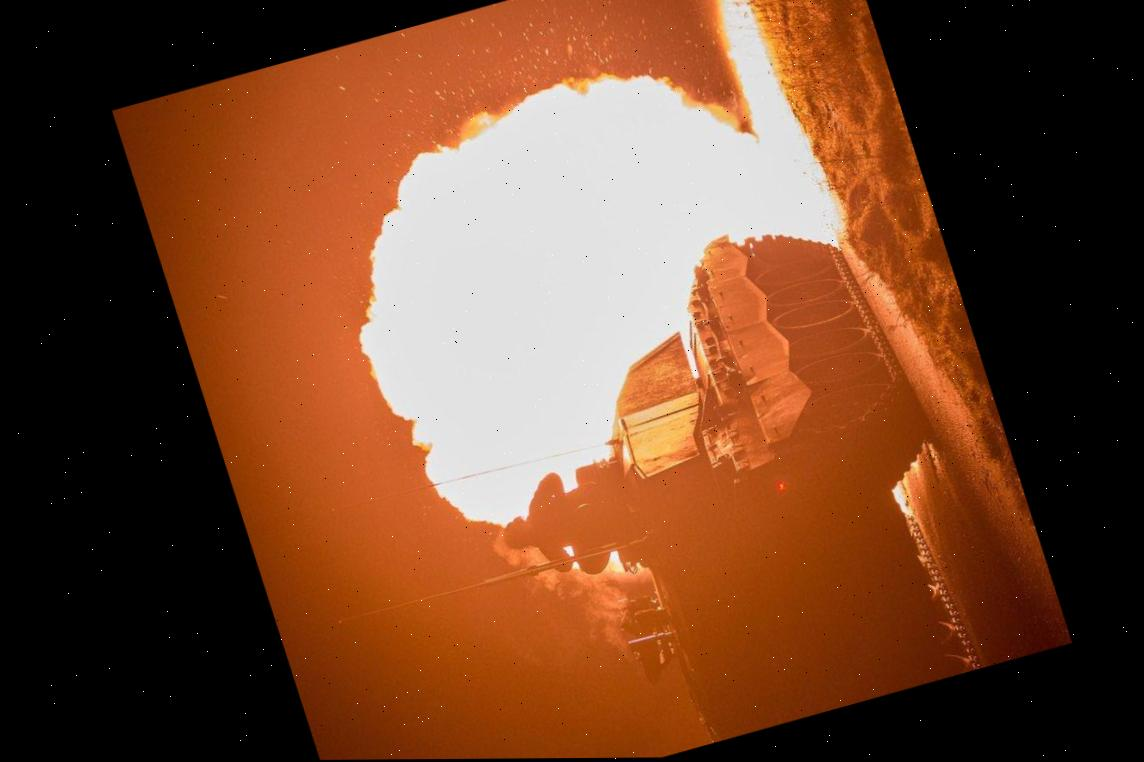person: (484, 455, 648, 587)
tank: (484, 199, 1011, 758)
